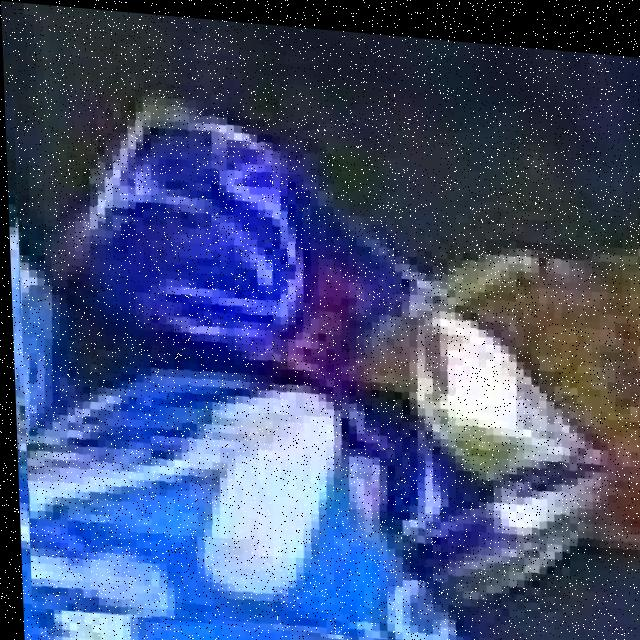litter: (16, 49, 640, 639)
